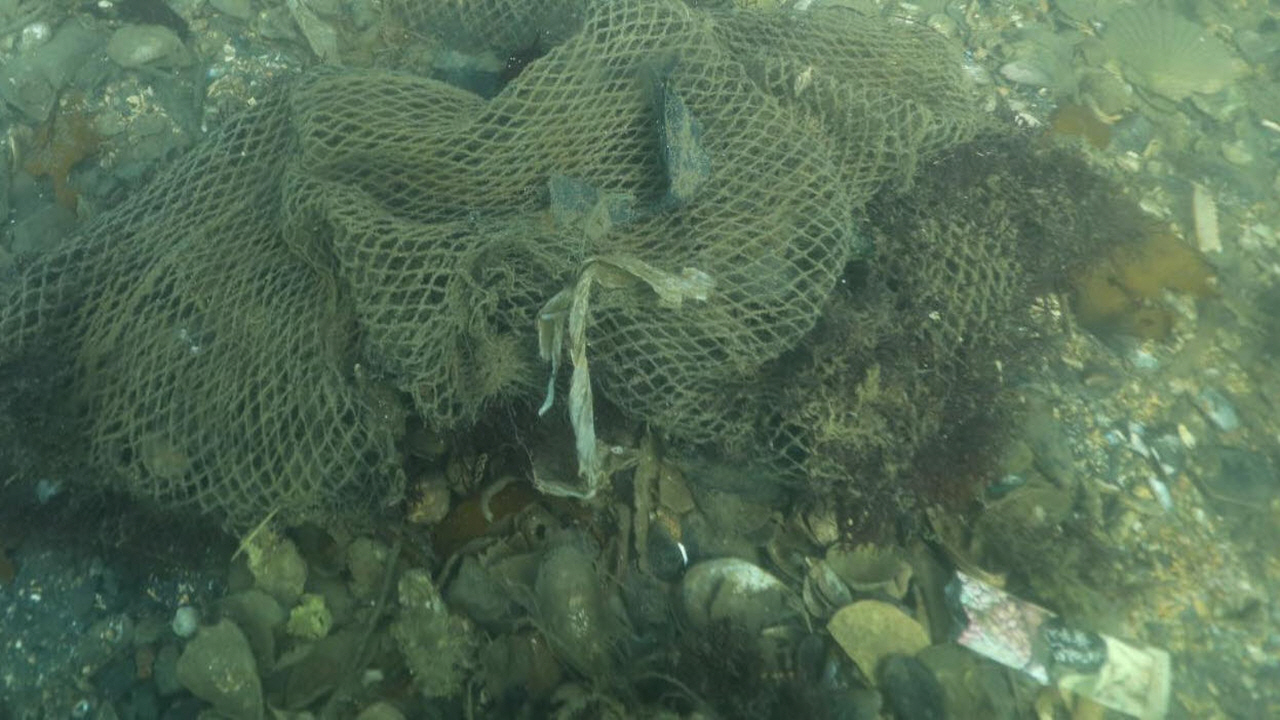fish net: (0, 2, 1026, 523)
